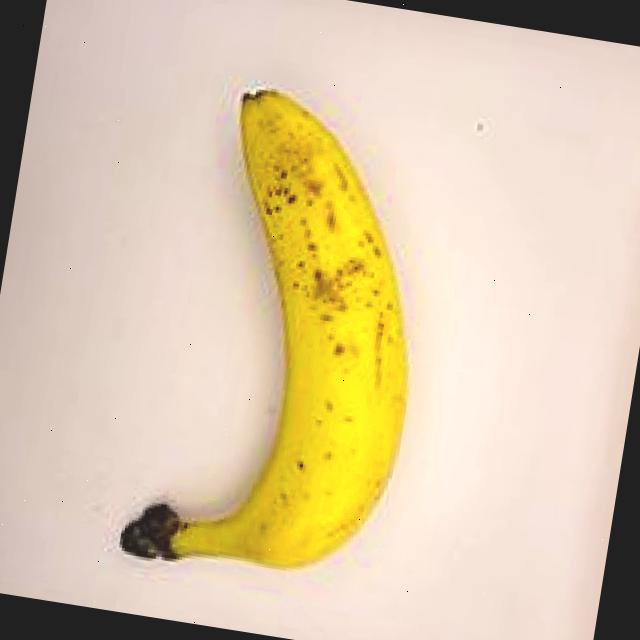Overripe: (86, 32, 492, 628)
